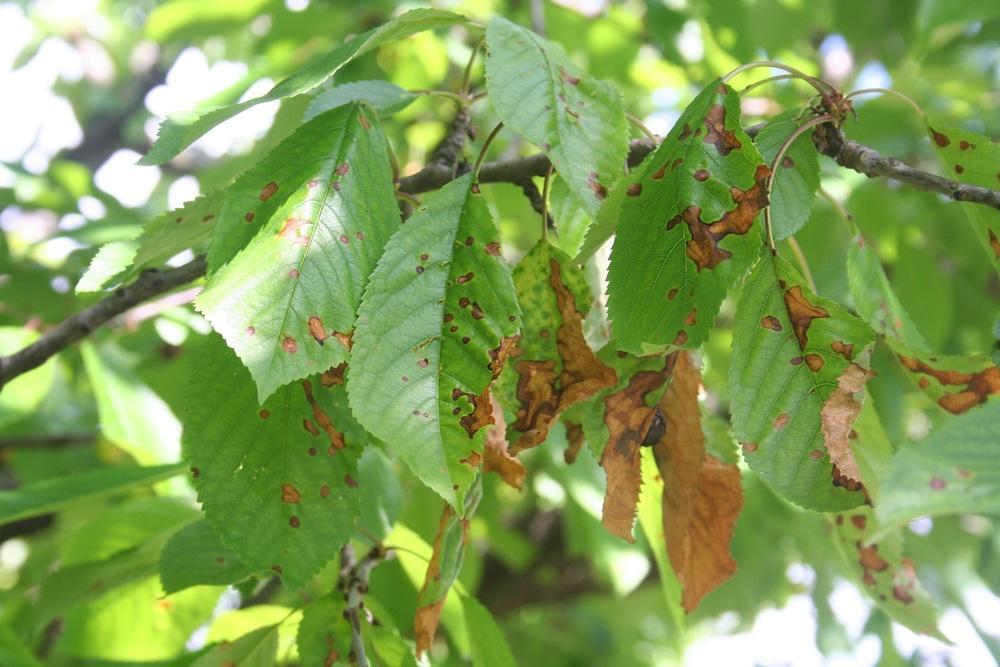black-spot: (410, 221, 489, 358)
